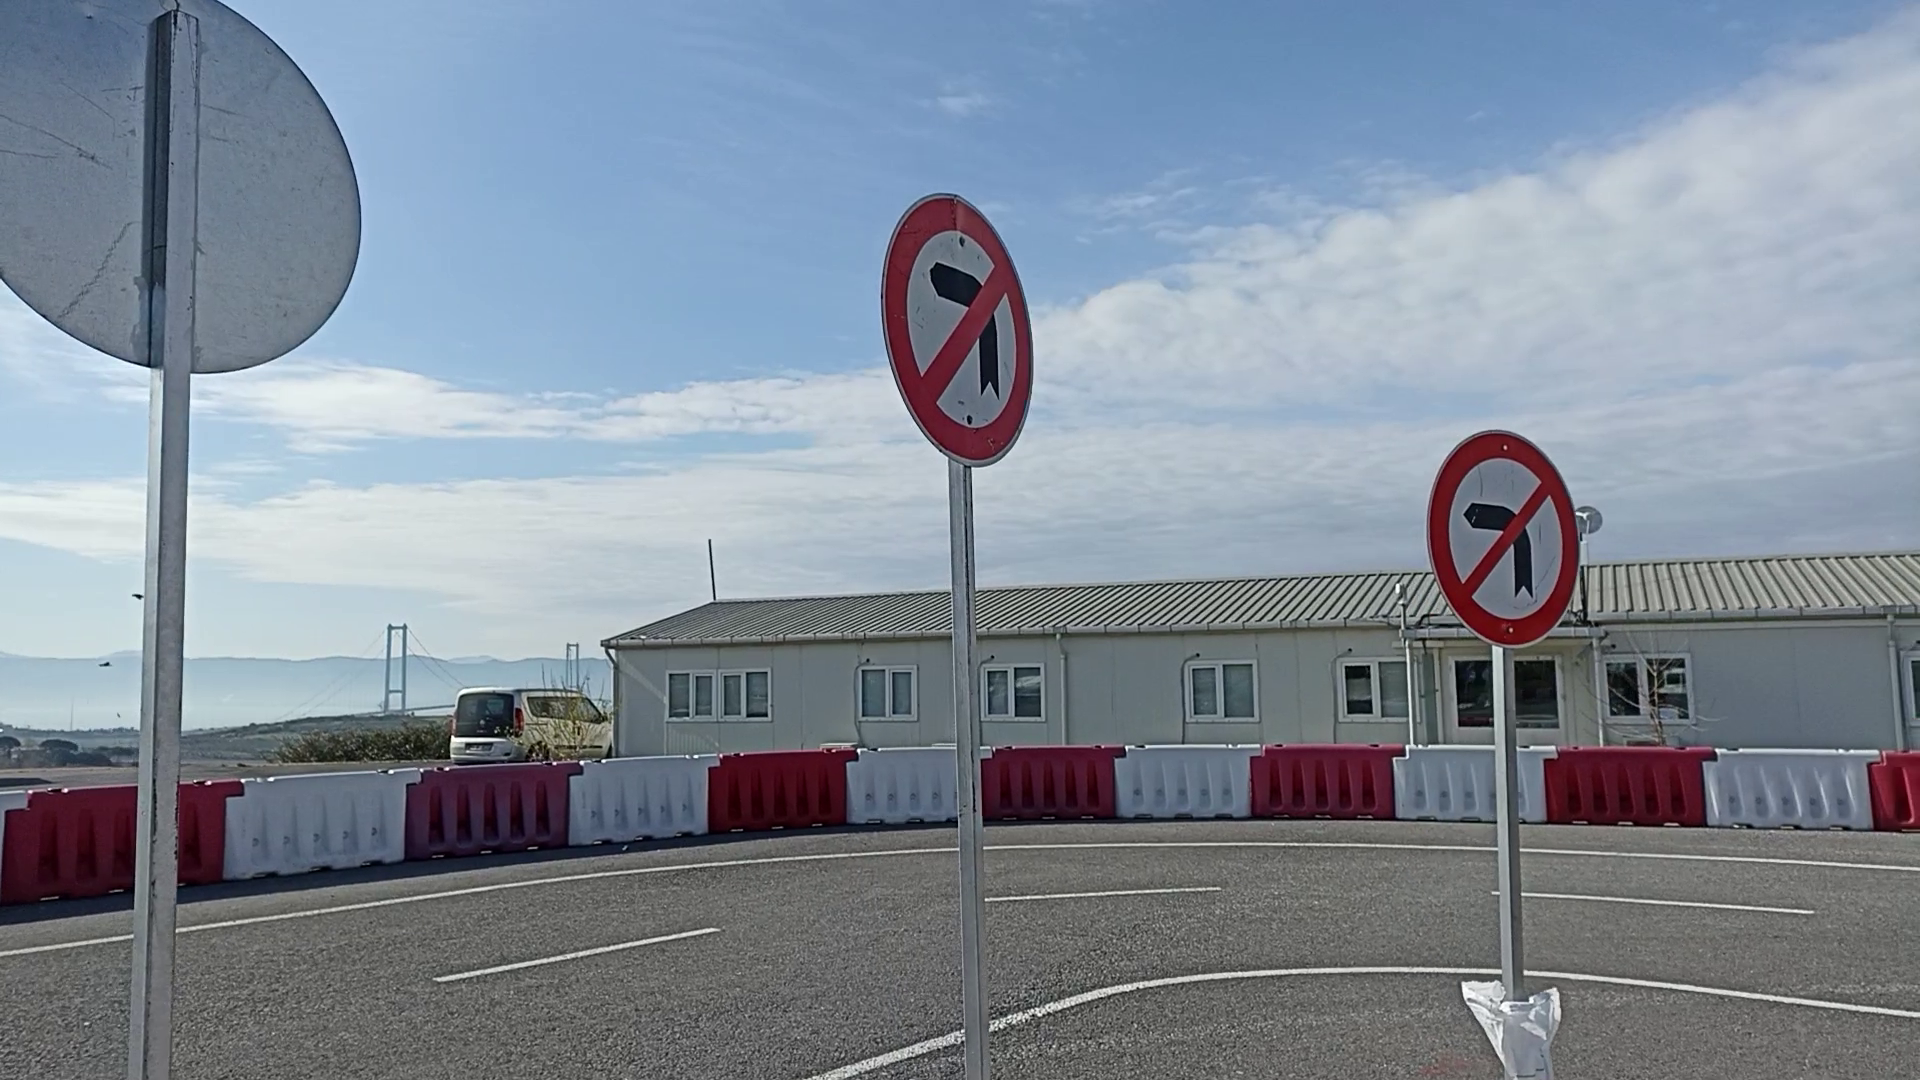noleft: (876, 189, 1040, 469), (1423, 425, 1585, 651)
